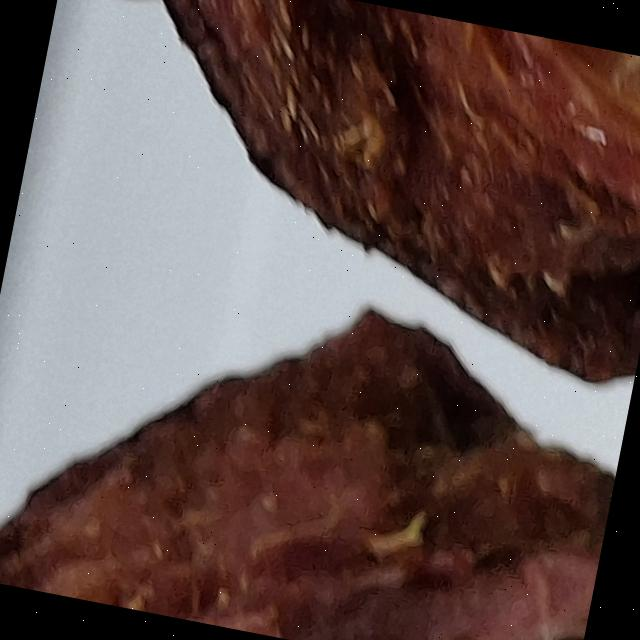mangosteen: (0, 215, 640, 640), (10, 0, 640, 361)
